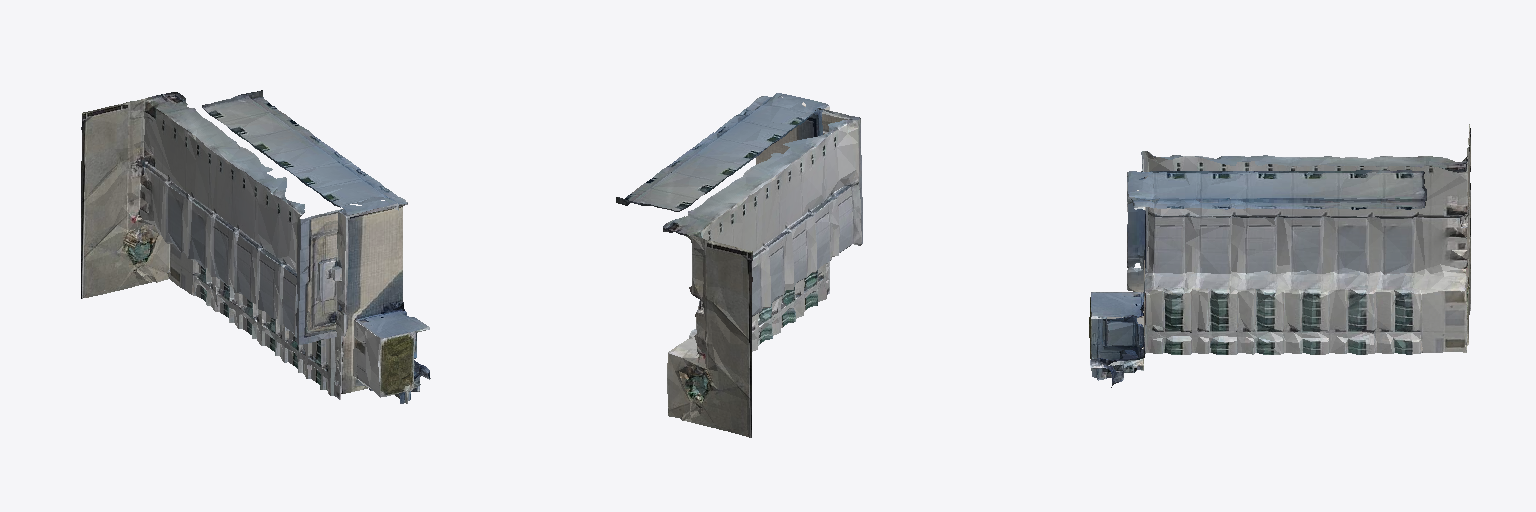
3 views of the same model, side by side, from view 1: azimuth 30°, elevation 25°; view 2: azimuth 150°, elevation 25°; view 3: azimuth 270°, elevation 25° (orthographic).
Parts seen in each view (by area): view 1: obj_0; view 2: obj_0; view 3: obj_0.
Part boxes in pixels (bbox=[...]): obj_0: bbox=[81, 90, 430, 403]; obj_0: bbox=[616, 93, 862, 437]; obj_0: bbox=[1089, 124, 1470, 387].
Bounding box in the file's own units: 20.08 × 22.53 × 41.87.
1 materials, 1 textured.